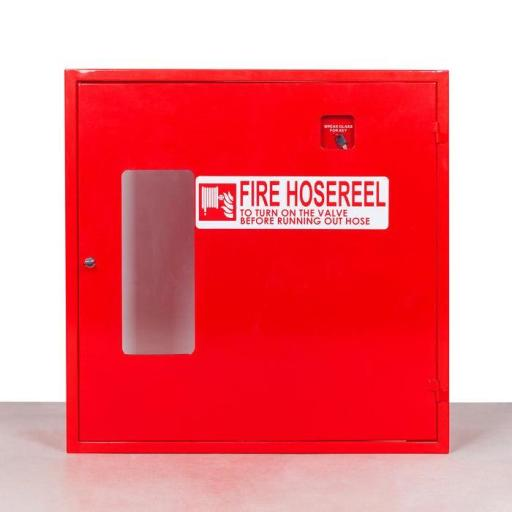fire_hose: (60, 63, 459, 459)
